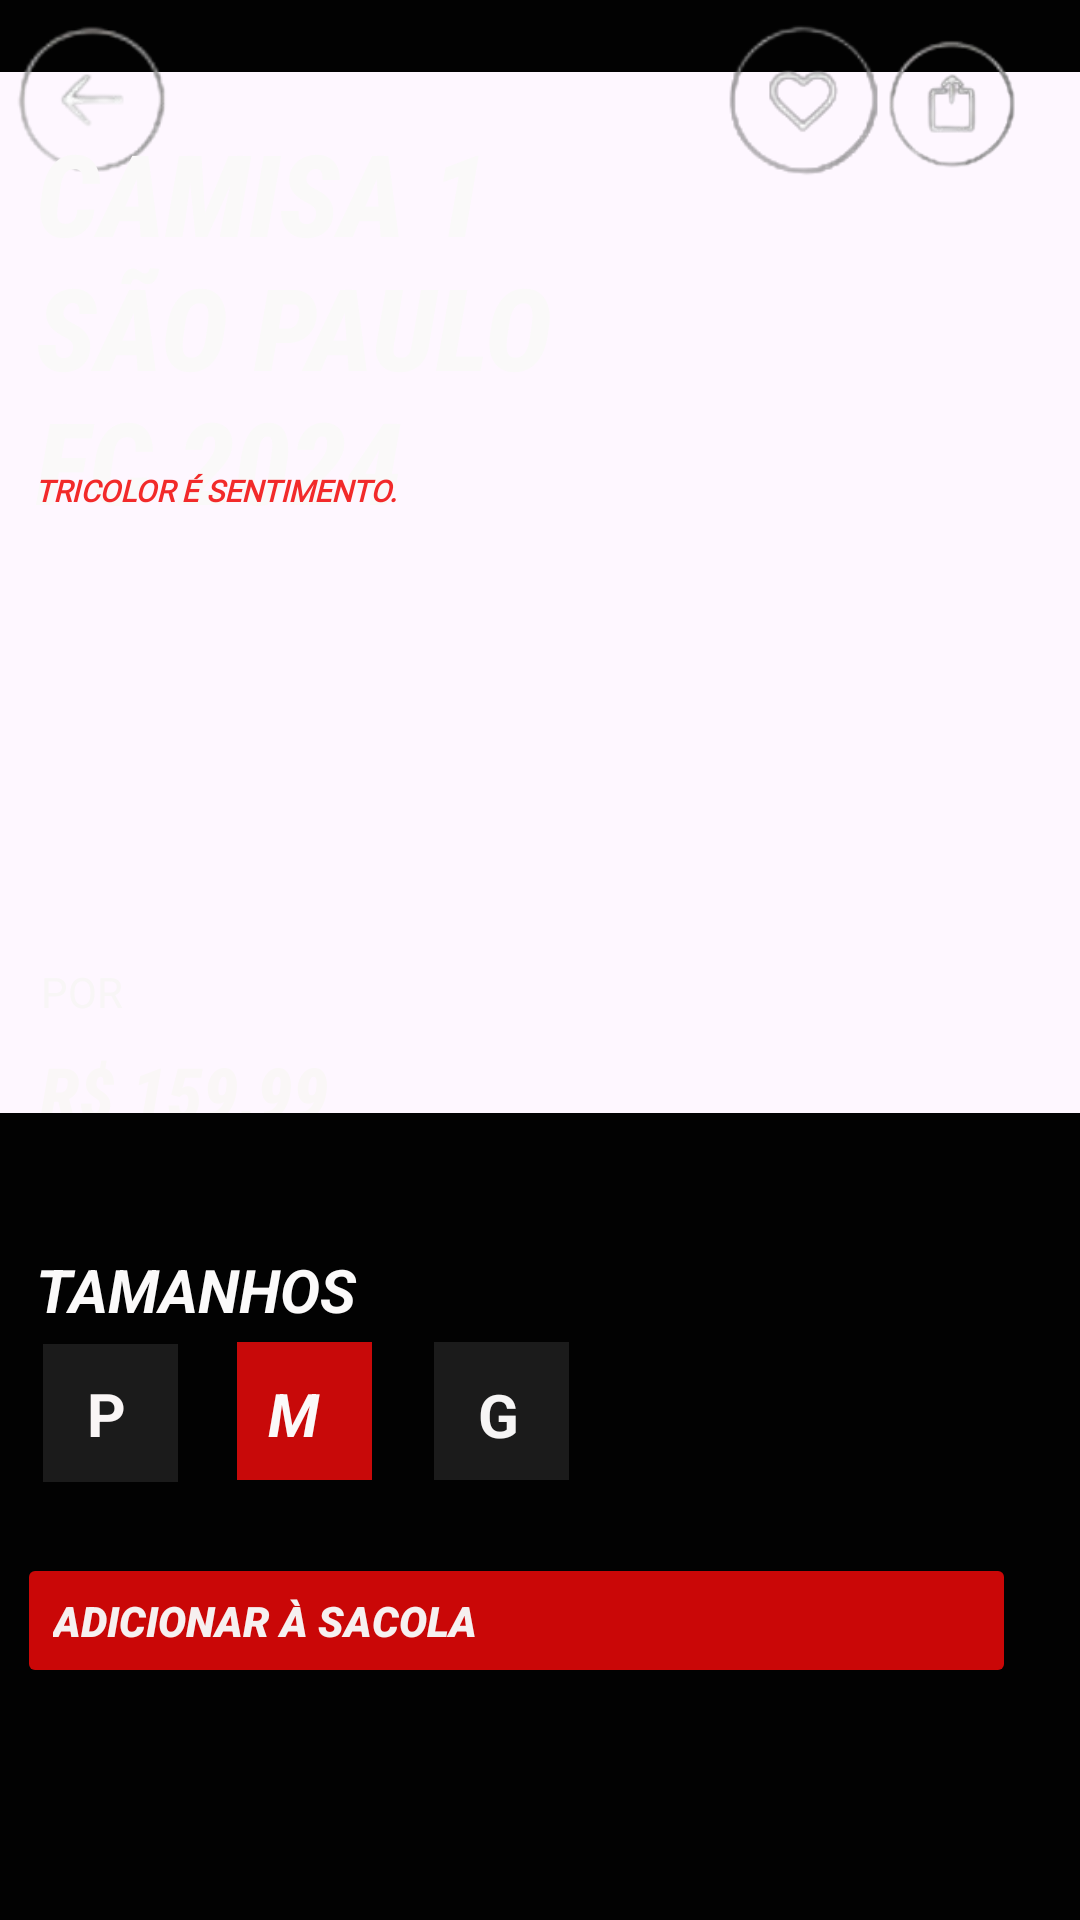

Point at icon controls on the screen. Image size 1080 × 1920, points as point (x, y).
seta: point (90, 85)
